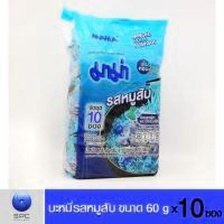snack: (52, 0, 174, 185)
